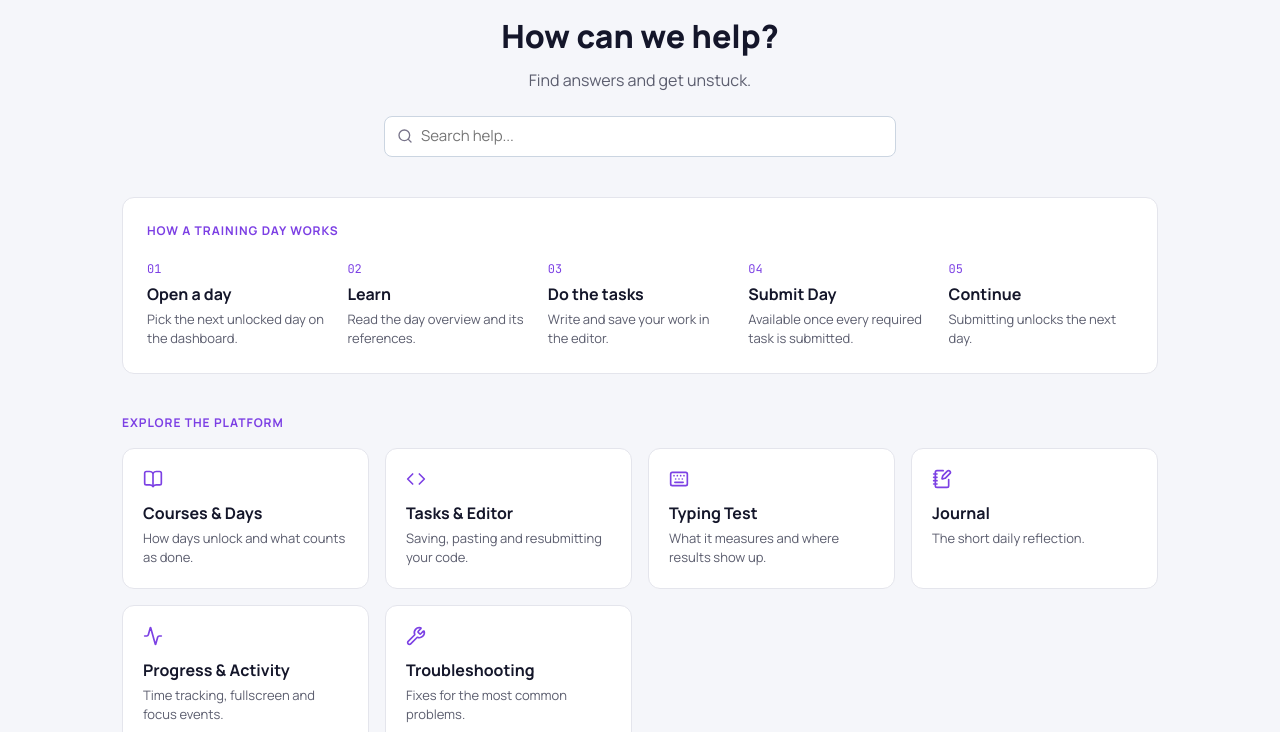
Test: HelpPage › filters the questions while typing and hides the overview sections
In the search field labelled "Search help": [652, 136] box [421,125,883,148], type "paste"
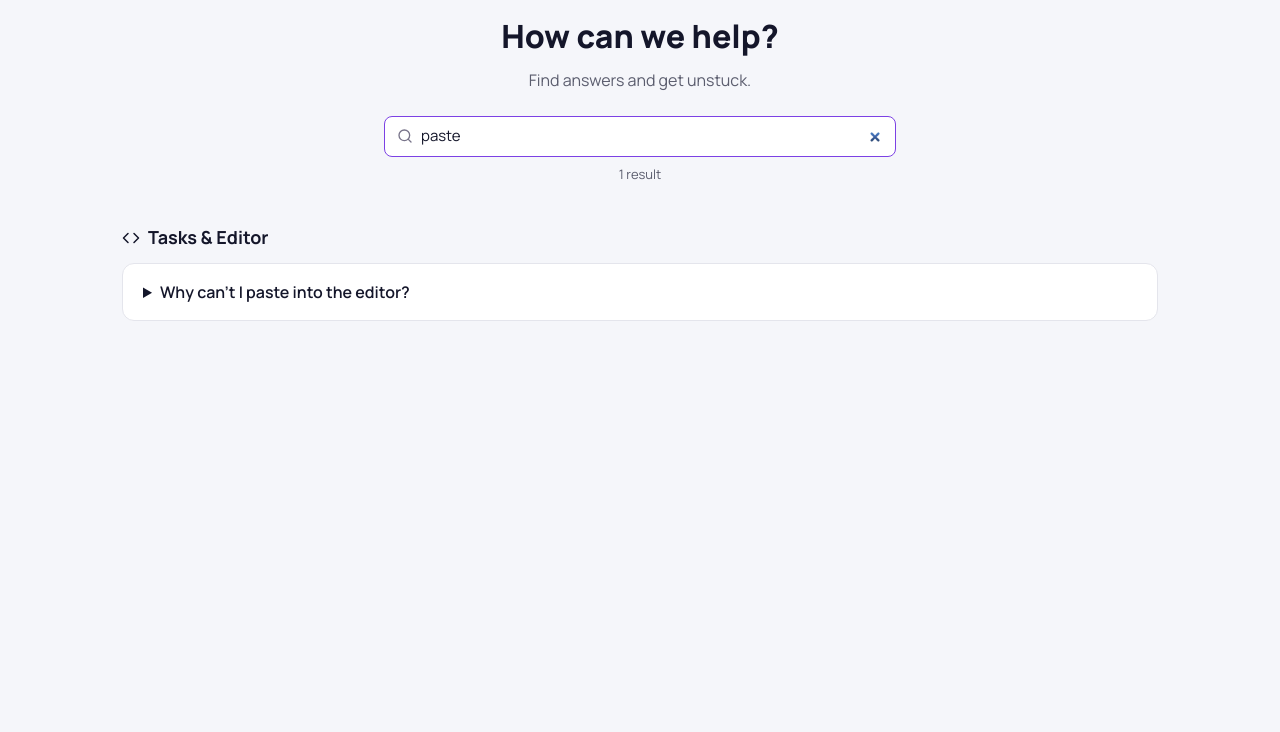
Expected: the heading "Why can't I paste into the editor?" is shown, [160,281,410,303]
Now the heading "How a training day works" is gone
Now the message shows "result", box [619,164,661,182]
